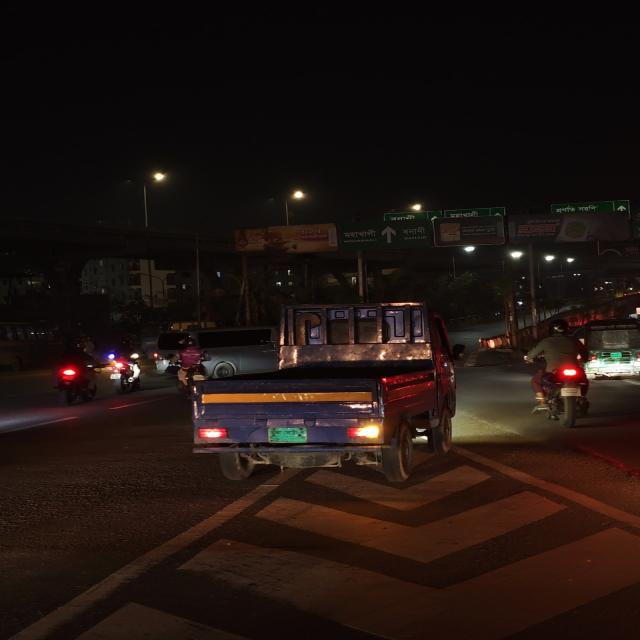car: (151, 320, 271, 374)
cng: (583, 312, 640, 382)
motorcycle: (524, 324, 590, 428), (41, 341, 99, 402), (101, 337, 143, 389), (177, 340, 209, 392)
pickup_van: (190, 296, 467, 492)
